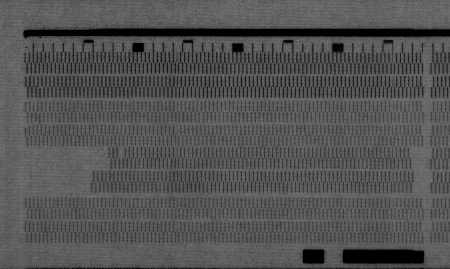Broken hole: (24, 144, 112, 194), (407, 147, 428, 192), (115, 146, 127, 158)
